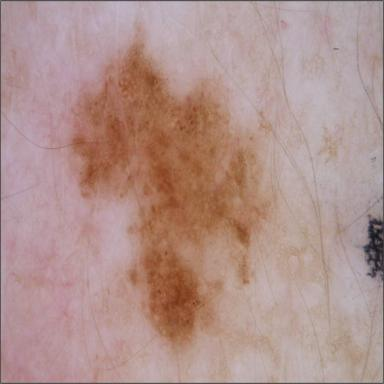nevus: (72, 28, 269, 340)
